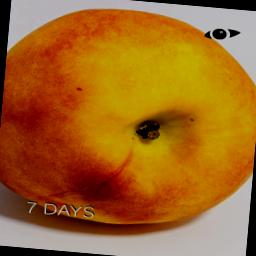Peach Ripe: (0, 0, 256, 237)
